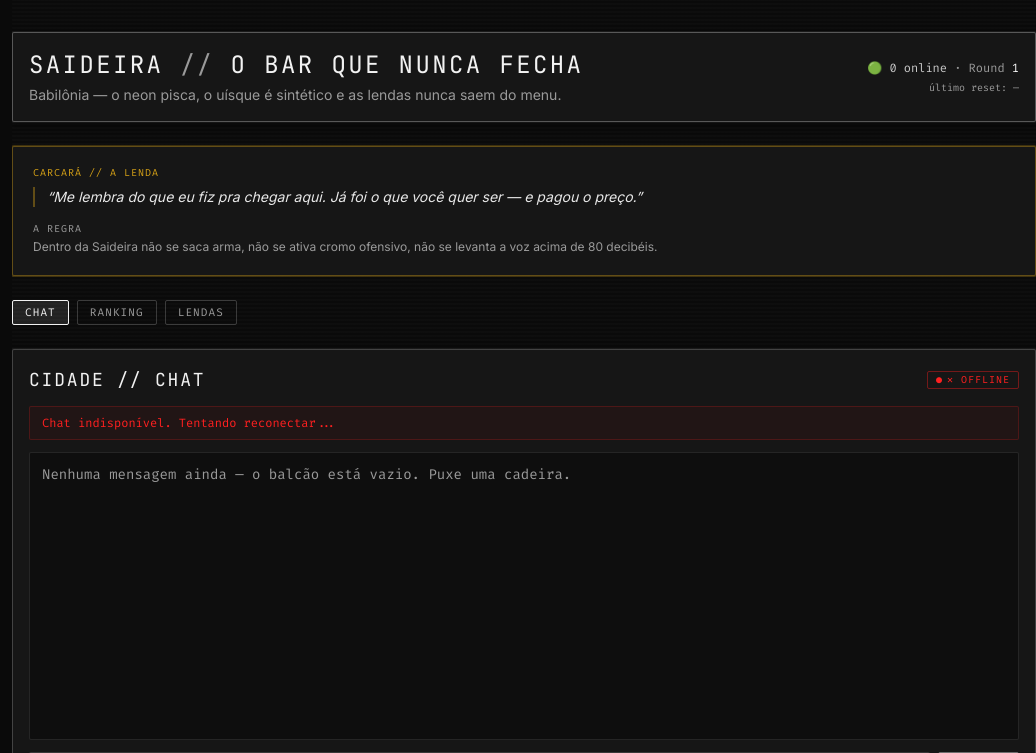
SaideiraView › should show the legends menu when the Lendas tab is clicked
Click the tab "Lendas": (201, 313) [165,300,237,325]
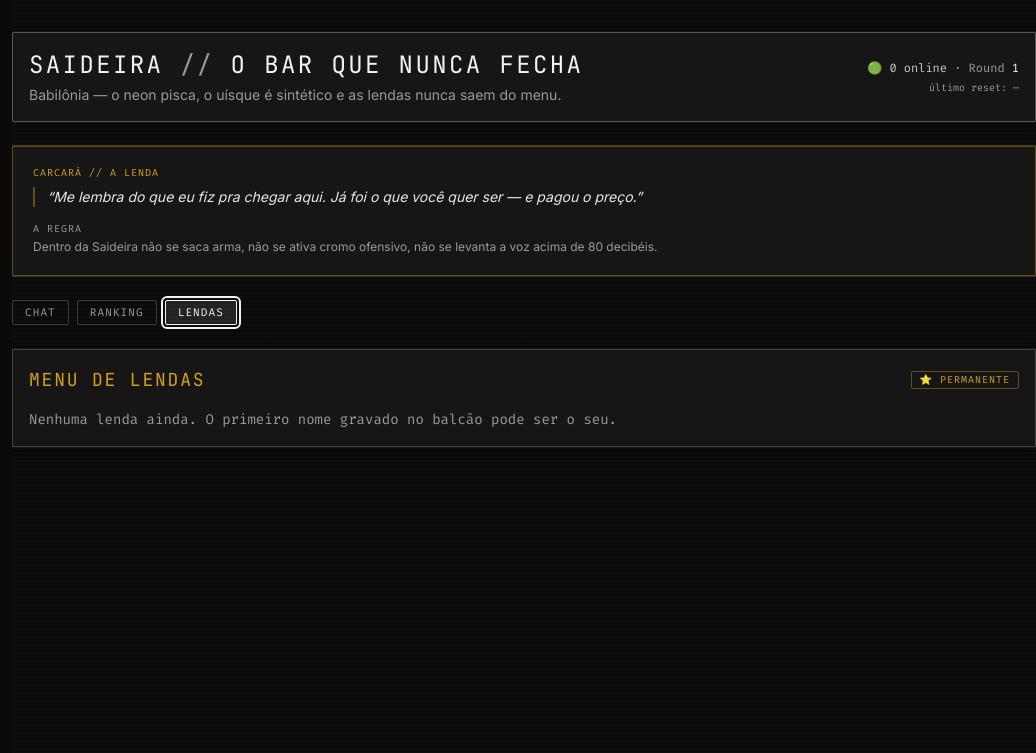
Now the heading "MENU DE LENDAS" is shown, box [29,366,205,394]
Now the text "Nenhuma lenda ainda" is shown, box [29,410,617,429]
